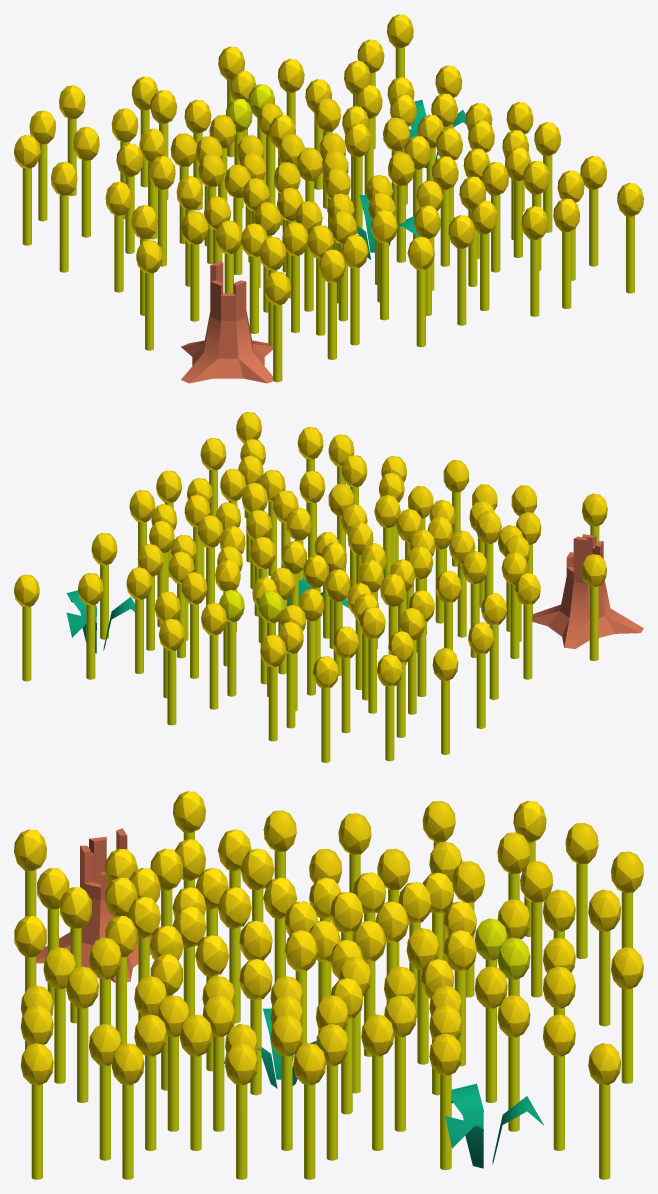
The model's file is Field.fbx.
3 views of the same model, one above another, from view 1: azimuth 30°, elevation 25°; view 2: azimuth 150°, elevation 25°; view 3: azimuth 270°, elevation 25° (orthographic). The views are drawn at different scales.
Parts seen in each view (by area): view 1: mergedBlocks; view 2: mergedBlocks; view 3: mergedBlocks.
Part boxes in pixels (x1,y1,x2,y2): mergedBlocks: (14,14,643,383); mergedBlocks: (14,412,643,762); mergedBlocks: (14,791,643,1179).
Size of the model in its own units: 27.97 by 6.5 by 27.75.
